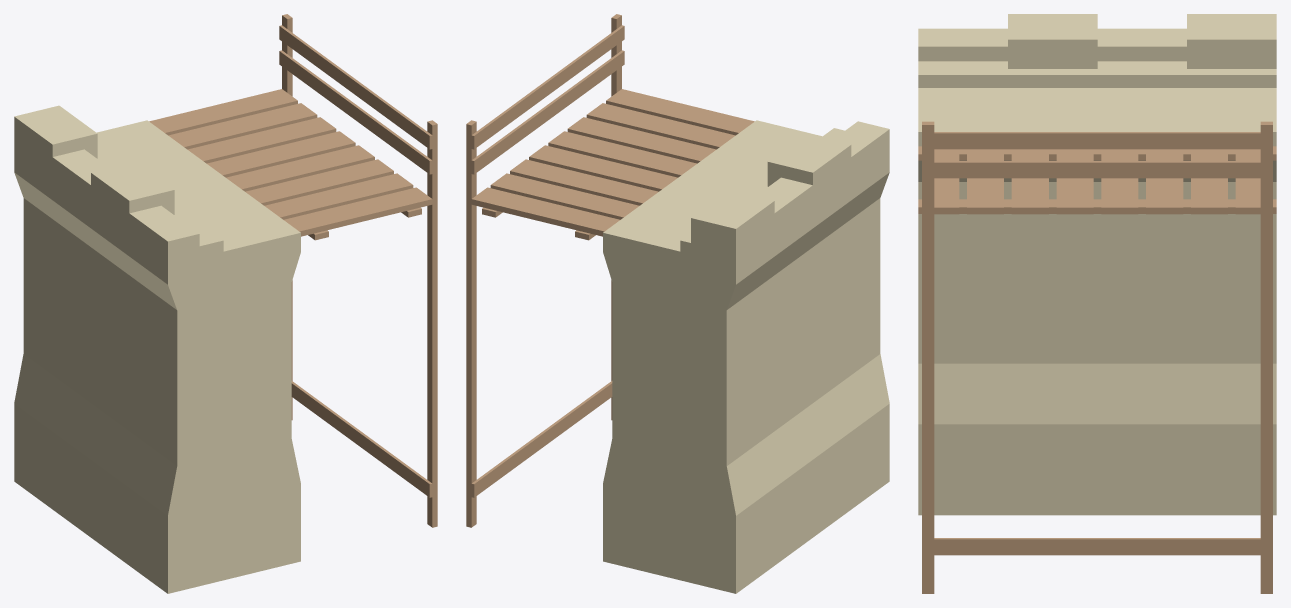
Rendered from wallnarrowwoodfence.glb.
3 views of the same model, side by side, from view 1: azimuth 30°, elevation 25°; view 2: azimuth 150°, elevation 25°; view 3: azimuth 270°, elevation 25° (orthographic). The views are drawn at different scales.
Visible parts, largest first — view 1: wallNarrowWoodFence, bridge 6; view 2: wallNarrowWoodFence, bridge 6; view 3: wallNarrowWoodFence, bridge 6.
Boxes of the visible parts, left/top/right/bottom form: wallNarrowWoodFence: left=14, top=105, right=300, bottom=593; bridge 6: left=149, top=14, right=437, bottom=527; wallNarrowWoodFence: left=603, top=120, right=889, bottom=593; bridge 6: left=466, top=14, right=754, bottom=527; wallNarrowWoodFence: left=918, top=14, right=1276, bottom=515; bridge 6: left=918, top=121, right=1276, bottom=593.
Size of the model in its own units: 10.2 by 14.44 by 10.
